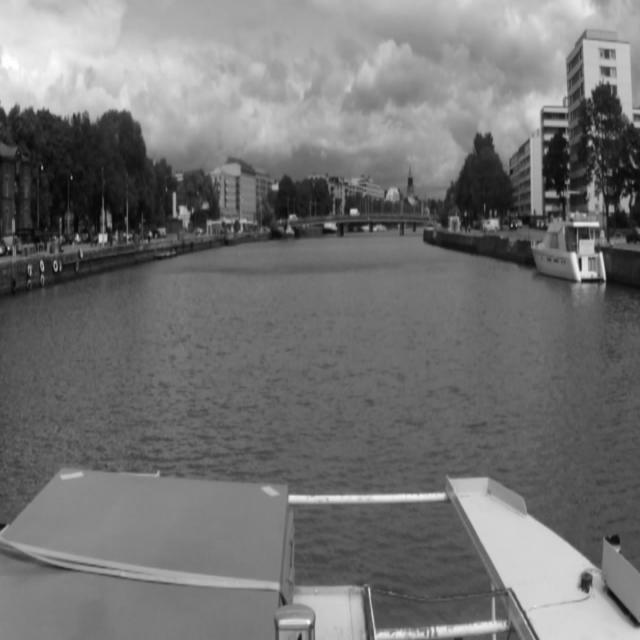ship: (532, 178, 606, 282), (225, 228, 237, 242)
